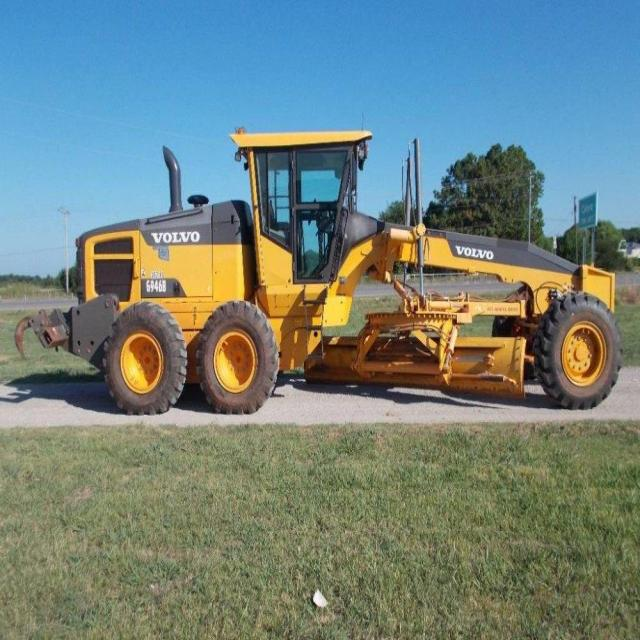buldozerpayloadergrader: (57, 114, 624, 416)
